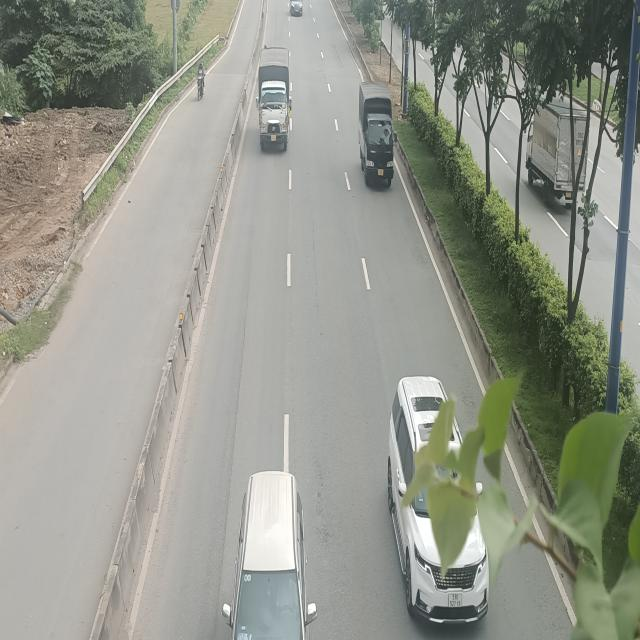truck: (356, 84, 395, 188), (258, 46, 293, 150)
